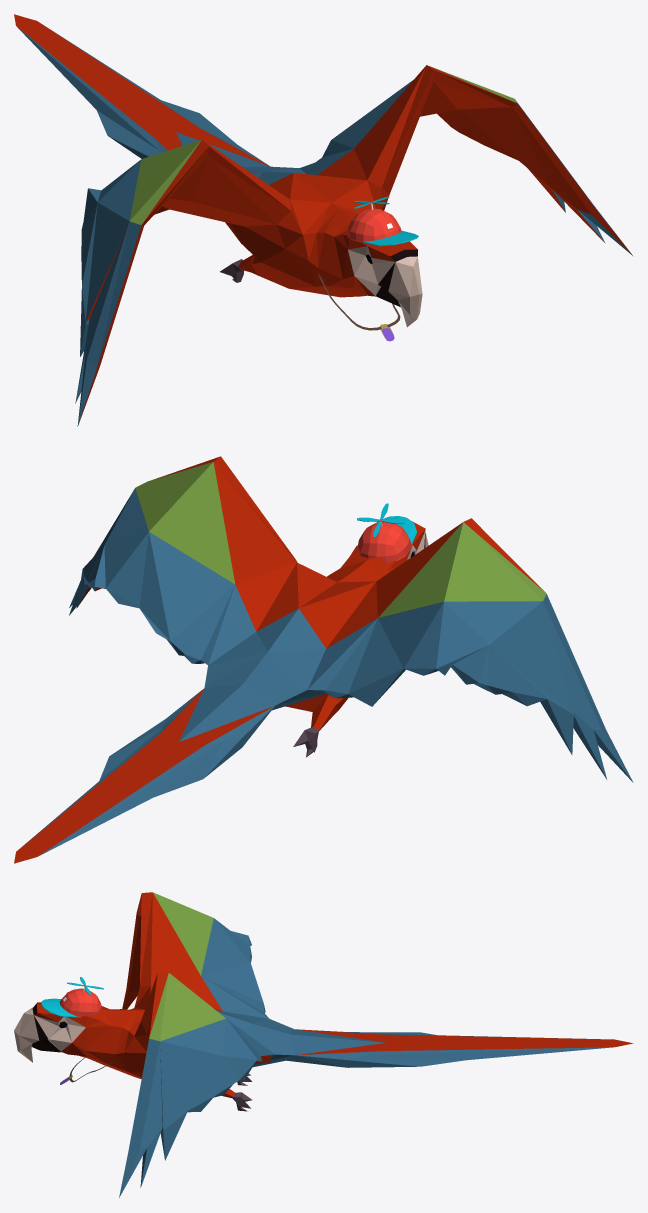
File: hat_x_parrot.glb
The picture shows the model from 3 angles, top to bottom: view 1: azimuth 30°, elevation 25°; view 2: azimuth 150°, elevation 25°; view 3: azimuth 270°, elevation 25°; orthographic projection. The views are drawn at different scales.
Visible parts, largest first — view 1: Mesh_0, PropellerCap_01_Roundcube.001; view 2: Mesh_0, PropellerCap_01_Roundcube.001; view 3: Mesh_0, PropellerCap_01_Roundcube.001.
Boxes of the visible parts, x1,y1,x2,y2 form: Mesh_0: [14, 14, 633, 426]; PropellerCap_01_Roundcube.001: [346, 196, 418, 246]; Mesh_0: [14, 456, 633, 863]; PropellerCap_01_Roundcube.001: [357, 503, 416, 562]; Mesh_0: [14, 892, 633, 1197]; PropellerCap_01_Roundcube.001: [41, 977, 103, 1017].
Size of the model in its own units: 79.5 by 33.7 by 100.
